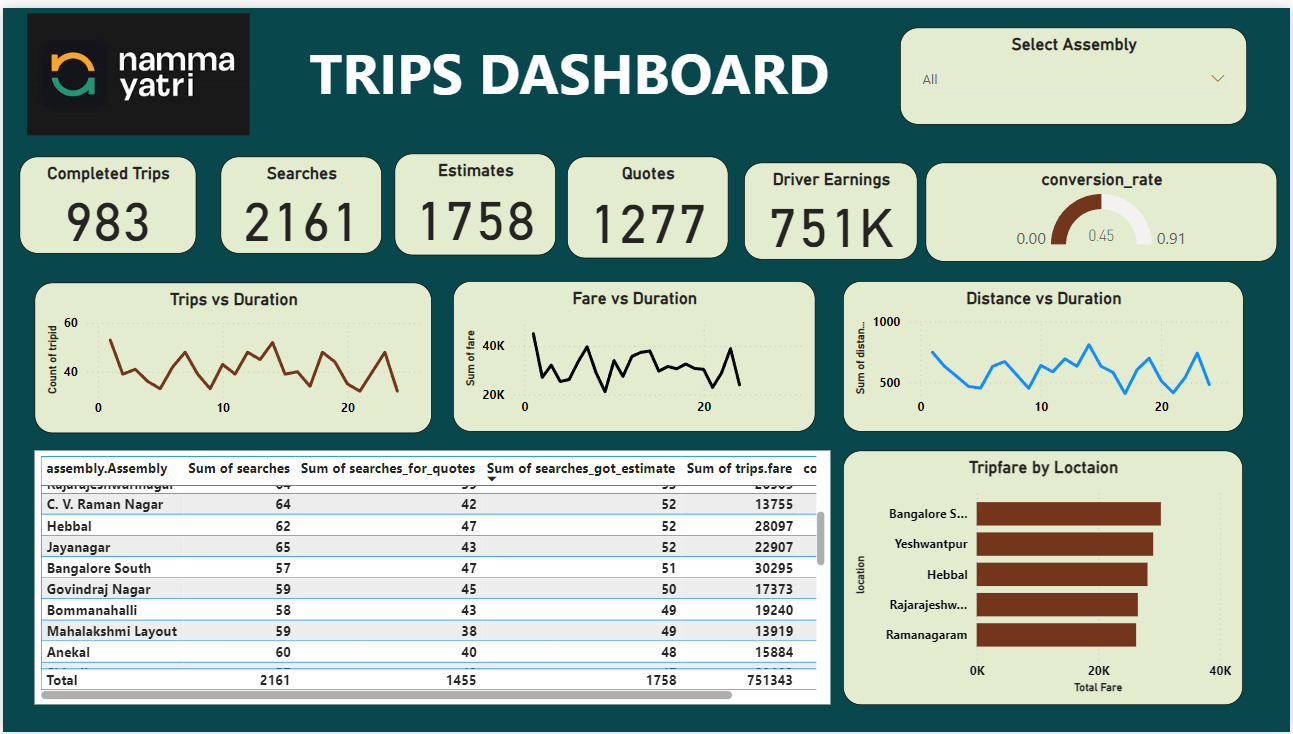

This screenshot's page, from the dashboard's own definition file:
{"tool":"powerbi","page":{"name":"Page 1","canvas":[1280,720],"ordinal":0},"visuals":[{"type":"card","title":"Completed Trips","fields":{"Values":["Sum(trip_details.end_ride)"]},"box":[16.7,148.5,175.8,97],"z":0},{"type":"card","title":"Searches","fields":{"Values":["Sum(trip_details.searches)"]},"box":[216.7,148.5,160.6,97],"z":1000},{"type":"card","title":"Estimates","fields":{"Values":["Sum(trip_details.searches_got_estimate)"]},"box":[389.4,145.5,160.6,101.5],"z":2000},{"type":"card","title":"Quotes","fields":{"Values":["Sum(trip_details.searches_got_quotes)"]},"box":[560.6,148.5,160.6,101.5],"z":3000},{"type":"card","title":"Driver Earnings","fields":{"Values":["Sum(trips.fare)"]},"box":[737.9,153,172.7,97],"z":4000},{"type":"gauge","fields":{"Y":["assembly.conversion_rate"]},"box":[918.2,153,350,98.5],"z":5000},{"type":"lineChart","title":"Trips vs Duration","fields":{"Category":["trips.duration"],"Y":["CountNonNull(trips.tripid)"]},"box":[31.8,272.7,395.5,150],"z":6000},{"type":"lineChart","title":"Fare vs Duration","fields":{"Y":["Sum(trips.fare)"],"Category":["trips.duration"]},"box":[448.5,271.2,360.6,150],"z":7000},{"type":"lineChart","title":"Distance vs Duration","fields":{"Category":["trips.duration"],"Y":["Sum(trips.distance)"]},"box":[836.4,271.2,398.5,150],"z":8000},{"type":"tableEx","fields":{"Values":["Merge2.assembly.Assembly","Sum(Merge2.searches)","Sum(Merge2.searches_for_quotes)","Sum(Merge2.searches_got_estimate)","Sum(Merge2.trips.fare)","assembly.conversion_rate"]},"box":[31.8,440.6,791.9,252.9],"z":9000},{"type":"textbox","box":[254.5,19.7,616.7,97],"z":10000},{"type":"slicer","title":"Select Assembly","fields":{"Values":["Merge2.assembly.Assembly"]},"box":[892.4,19.7,345.5,97],"z":11000},{"type":"image","box":[0,0,269.7,131.8],"z":13000},{"type":"barChart","title":"Tripfare by Loctaion","fields":{"Category":["Merge2.assembly.Assembly"],"Y":["Sum(Merge2.trips.fare)"]},"box":[836,441,398,253],"z":13001}]}

Visuals, with their boxes in screenshot pixels (x1, y1, x2, y2), scaled from the page's 1280x720 canvas onto the 1293x734 screenshot:
"Completed Trips" card: <bbox>17, 151, 194, 250</bbox>
"Searches" card: <bbox>219, 151, 381, 250</bbox>
"Estimates" card: <bbox>393, 148, 556, 252</bbox>
"Quotes" card: <bbox>566, 151, 729, 255</bbox>
"Driver Earnings" card: <bbox>745, 156, 920, 255</bbox>
gauge - assembly.conversion_rate: <bbox>928, 156, 1281, 256</bbox>
"Trips vs Duration" lineChart: <bbox>32, 278, 432, 431</bbox>
"Fare vs Duration" lineChart: <bbox>453, 276, 817, 429</bbox>
"Distance vs Duration" lineChart: <bbox>845, 276, 1247, 429</bbox>
tableEx - Merge2.assembly.Assembly x Sum(Merge2.searches): <bbox>32, 449, 832, 707</bbox>
textbox: <bbox>257, 20, 880, 119</bbox>
"Select Assembly" slicer: <bbox>901, 20, 1250, 119</bbox>
image: <bbox>0, 0, 272, 134</bbox>
"Tripfare by Loctaion" barChart: <bbox>844, 450, 1247, 707</bbox>
